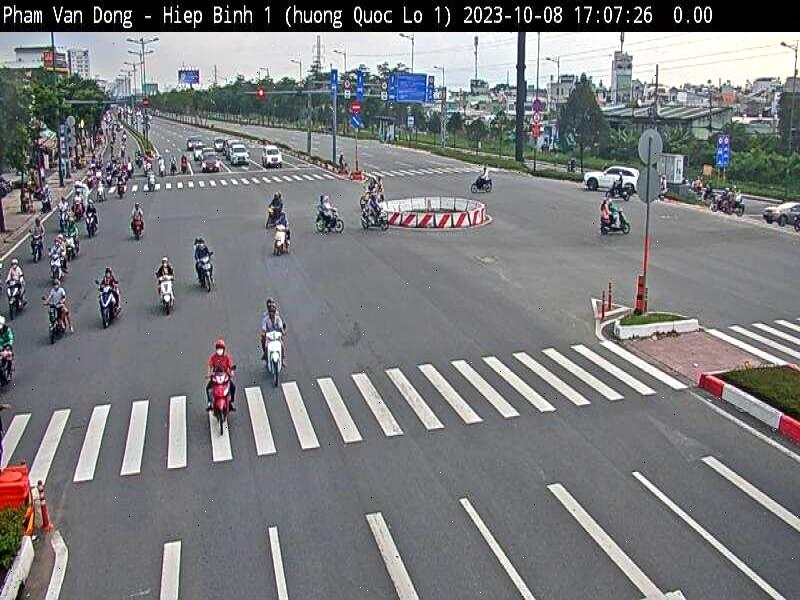car: (586, 157, 646, 204), (187, 135, 222, 174), (256, 139, 288, 177), (227, 136, 259, 167)
motorcycle: (196, 371, 250, 432), (242, 322, 297, 380), (88, 277, 121, 328), (192, 249, 226, 296), (149, 276, 192, 313)
